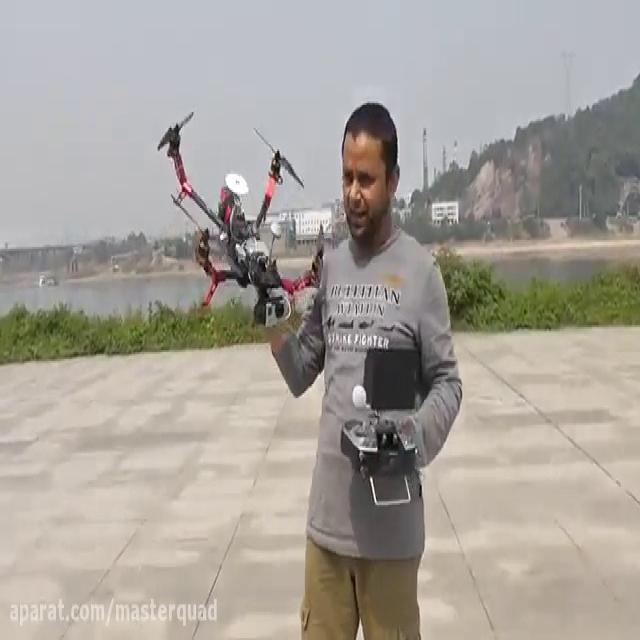drone: (155, 101, 326, 331)
